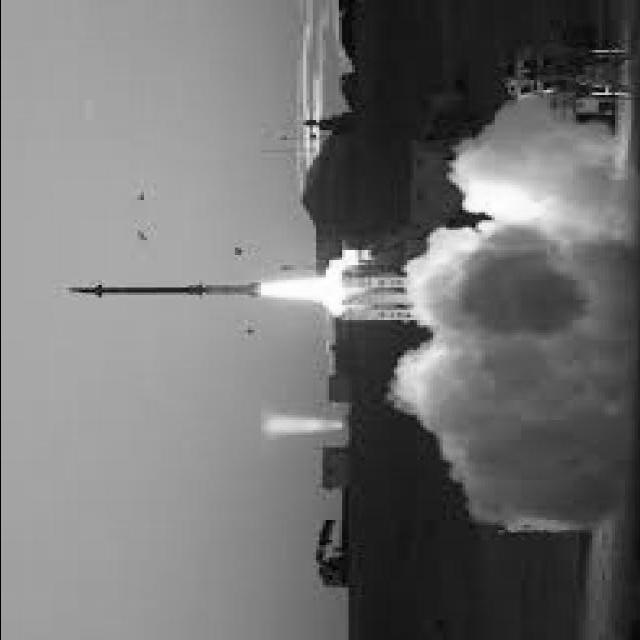Missile: (62, 283, 267, 296)
